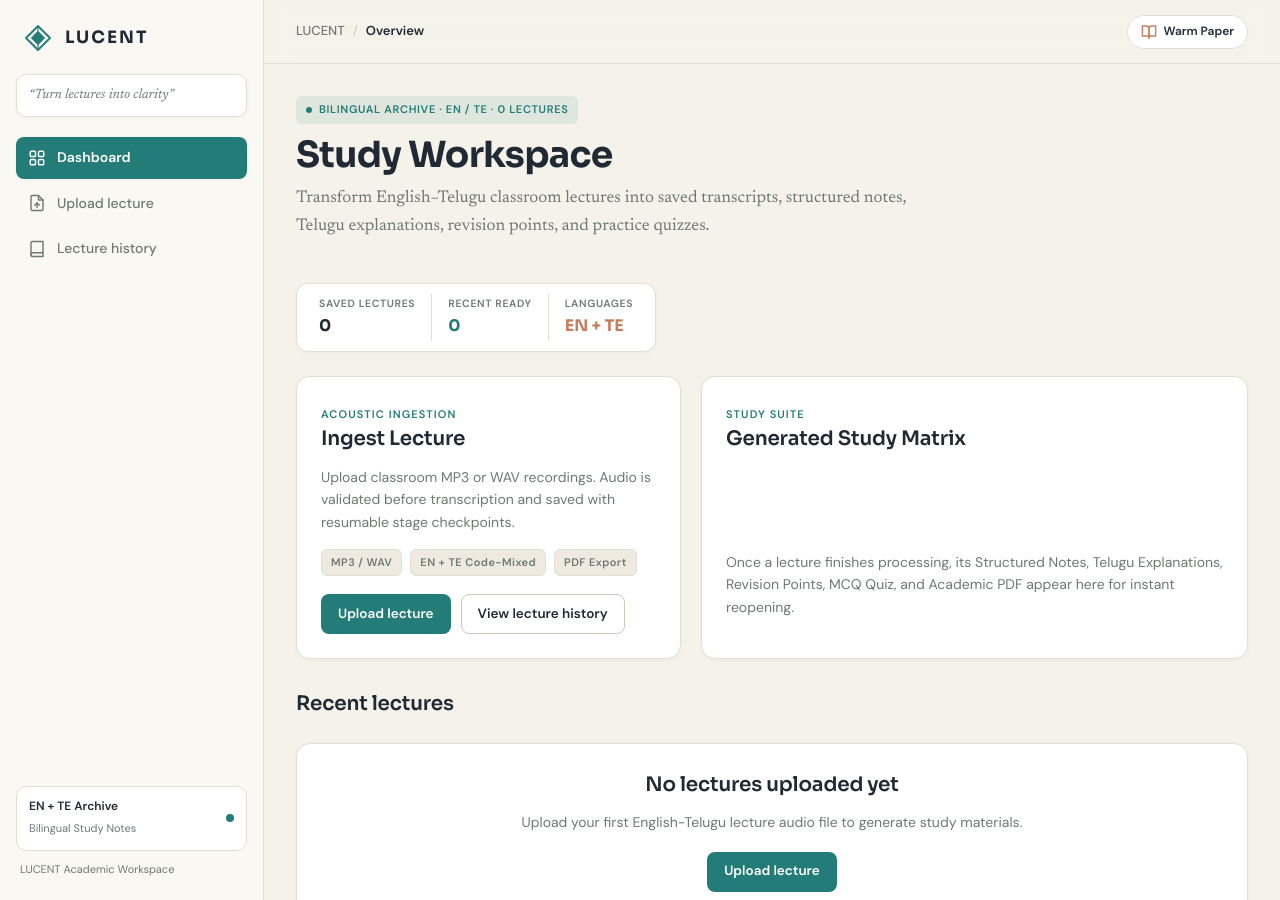
it: lecture processing details and navigation › toggles between light and dark themes and persists the choice
Click the button with aria-label "Switch to dark theme" at (1187, 32), box top-left (1126, 14), bottom-right (1248, 48)
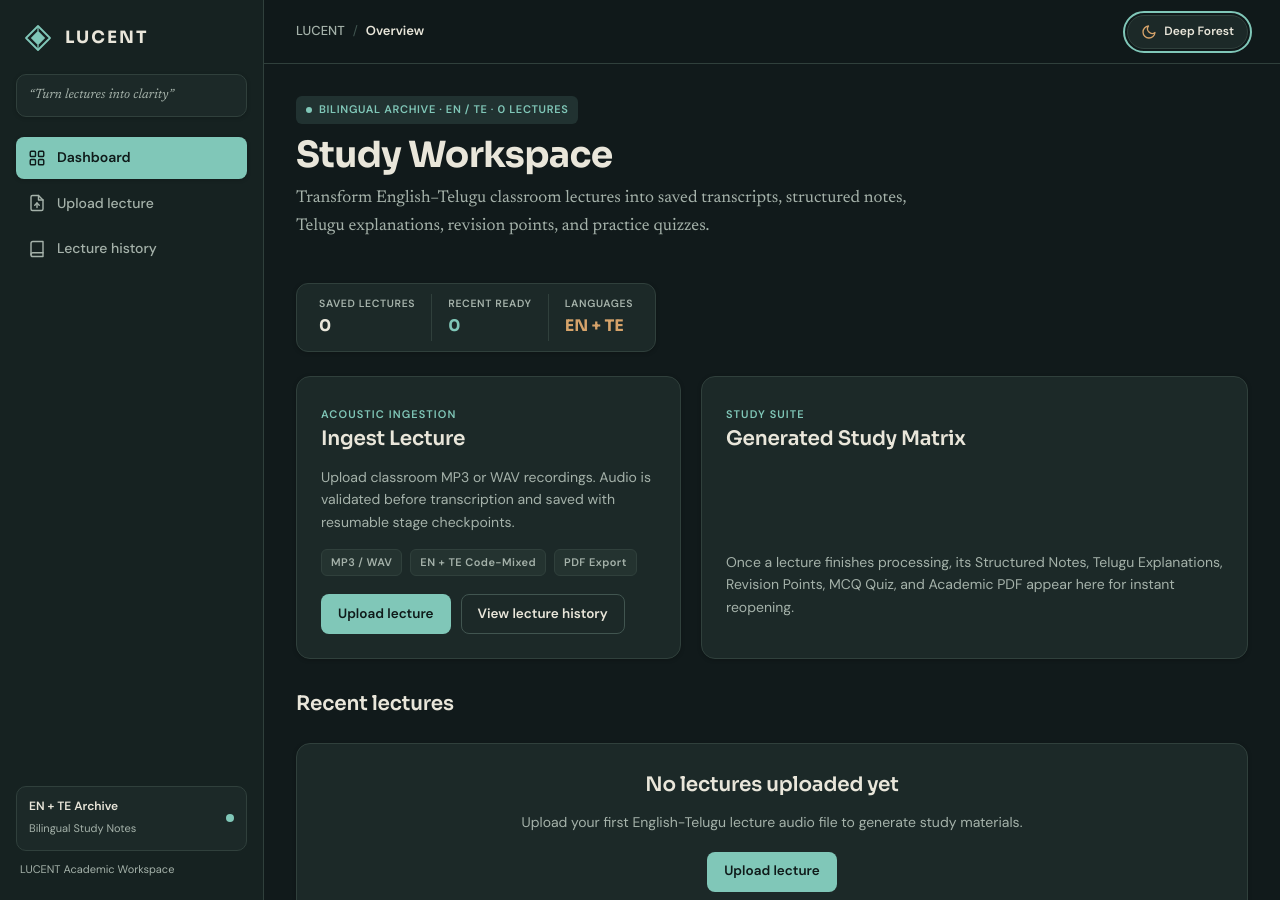
expect the button with aria-label "Switch to light theme" is shown: met, box top-left (1127, 14), bottom-right (1248, 48)
